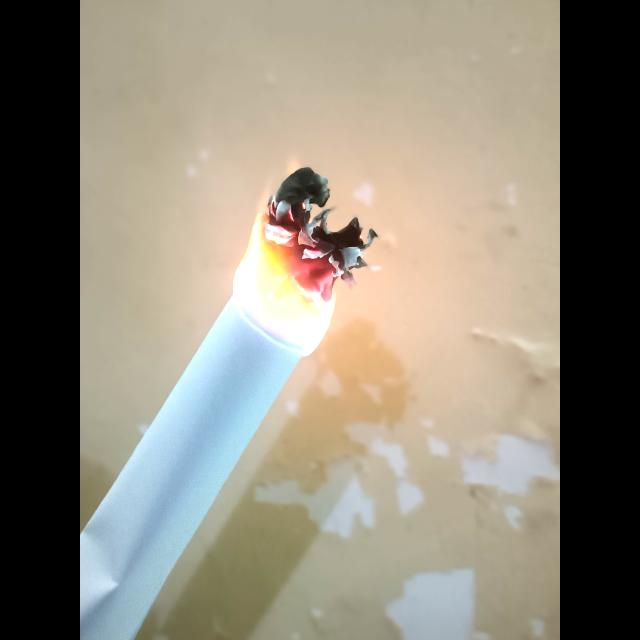fire: (235, 168, 377, 355)
